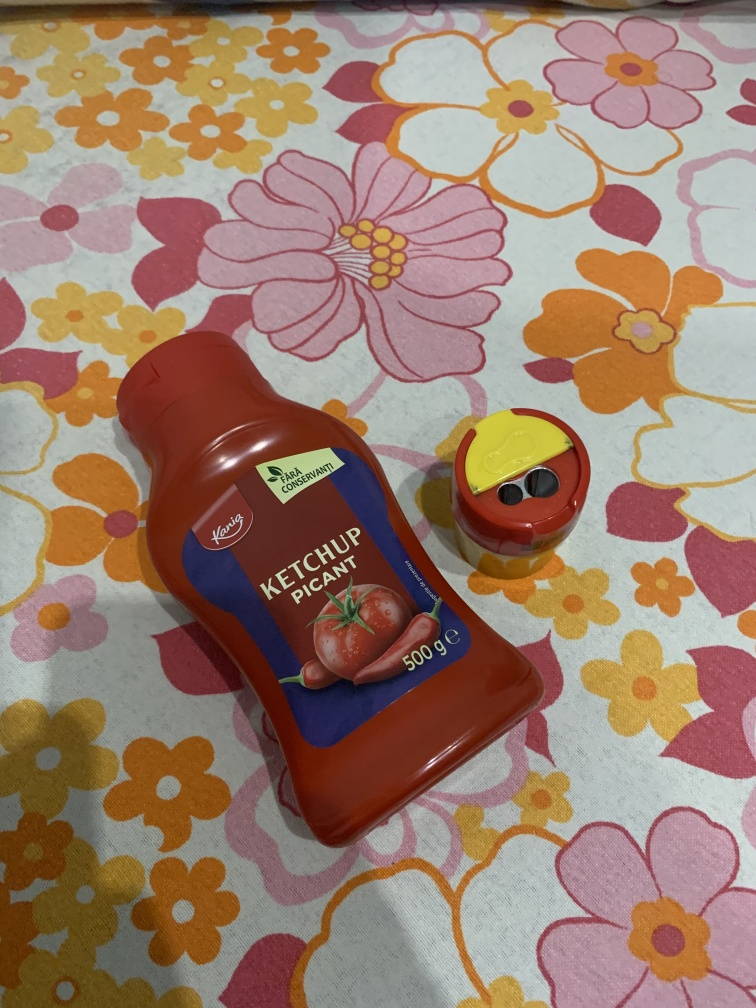ketchup: (107, 324, 557, 851)
